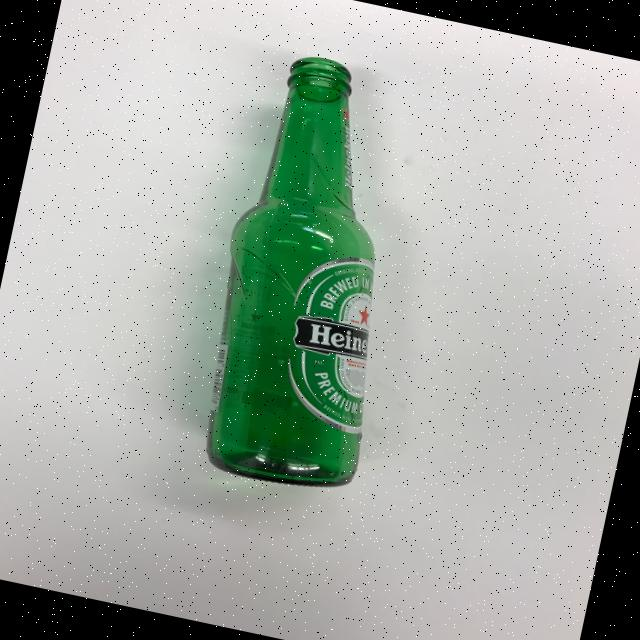glass: (182, 45, 440, 499)
